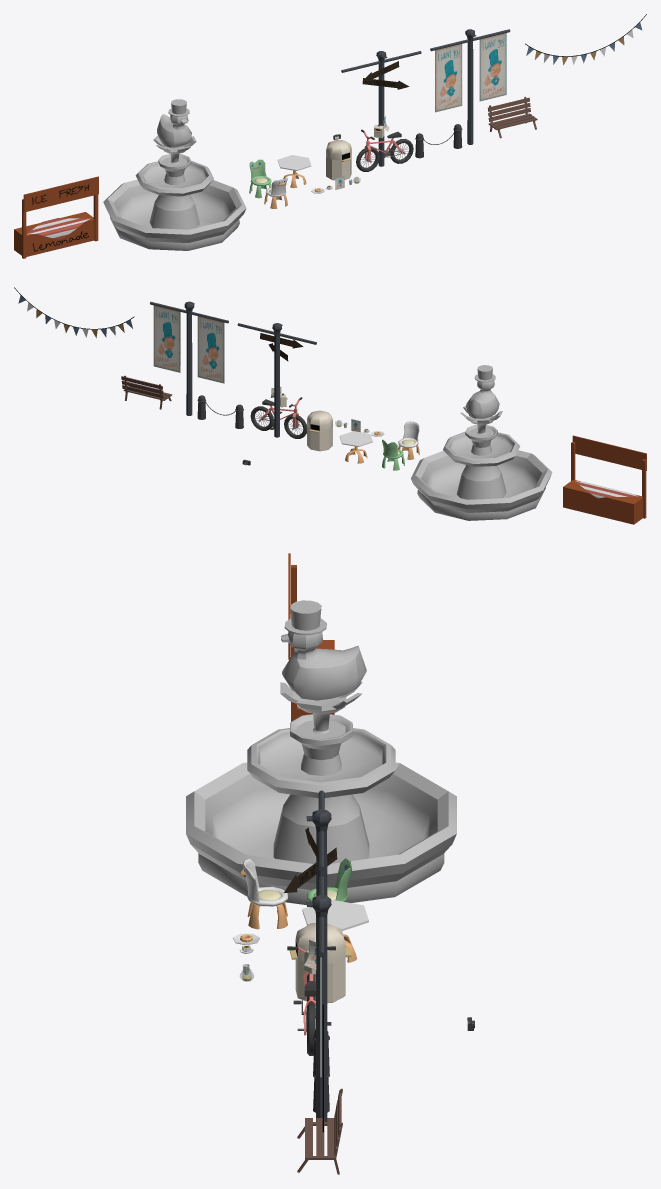
Rendered from Town_items_1.fbx.
3 views of the same model, one above another, from view 1: azimuth 30°, elevation 25°; view 2: azimuth 150°, elevation 25°; view 3: azimuth 270°, elevation 25° (orthographic). The views are drawn at different scales.
Visible parts, largest first — view 1: Fountain, Pole, Lemon_stand, Arrow_sign, Duck_Fountain, Bike, Bench, Bin, DuckTable, pCylinder3, Froggy_Chair, pole_chain (+1 smaller); view 2: Fountain, Pole, Lemon_stand, Arrow_sign, Duck_Fountain, Bike, Bin, Bench, DuckTable, pCylinder3, Duck_Chair, pole_chain (+1 smaller); view 3: Fountain, Duck_Fountain, Pole, Bin, Arrow_sign, Bench, Duck_Chair, DuckTable, Bike, Lemon_stand.
Part boxes in pixels (x1,y1,x2,y2): Fountain: [103, 135, 246, 250]; Pole: [430, 29, 510, 144]; Lemon_stand: [14, 176, 98, 258]; Arrow_sign: [341, 51, 421, 166]; Duck_Fountain: [157, 99, 191, 148]; Bike: [356, 129, 413, 171]; Bench: [488, 96, 537, 138]; Bin: [326, 139, 351, 180]; DuckTable: [277, 155, 311, 188]; pCylinder3: [525, 14, 646, 65]; Froggy_Chair: [249, 159, 271, 198]; pole_chain: [415, 124, 462, 158]; Fountain: [411, 406, 552, 520]; Pole: [150, 301, 228, 415]; Lemon_stand: [563, 435, 646, 524]; Arrow_sign: [237, 323, 316, 437]; Duck_Fountain: [465, 365, 499, 418]; Bike: [250, 397, 306, 438]; Bin: [307, 410, 332, 451]; Bench: [121, 375, 172, 409]; DuckTable: [339, 431, 372, 463]; pCylinder3: [14, 287, 134, 338]; Duck_Chair: [398, 421, 419, 459]; pole_chain: [197, 395, 243, 428]; Fountain: [186, 681, 456, 905]; Duck_Fountain: [281, 600, 366, 700]; Pole: [306, 876, 331, 1121]; Bin: [289, 923, 351, 1003]; Arrow_sign: [284, 790, 337, 982]; Bench: [297, 1088, 342, 1174]; Duck_Chair: [241, 858, 287, 929]; DuckTable: [302, 899, 368, 962]; Bike: [287, 946, 335, 1055]; Lemon_stand: [288, 553, 334, 721].
Size of the model in its own units: 2678 by 509 by 537.
37 materials, 3 textured.
